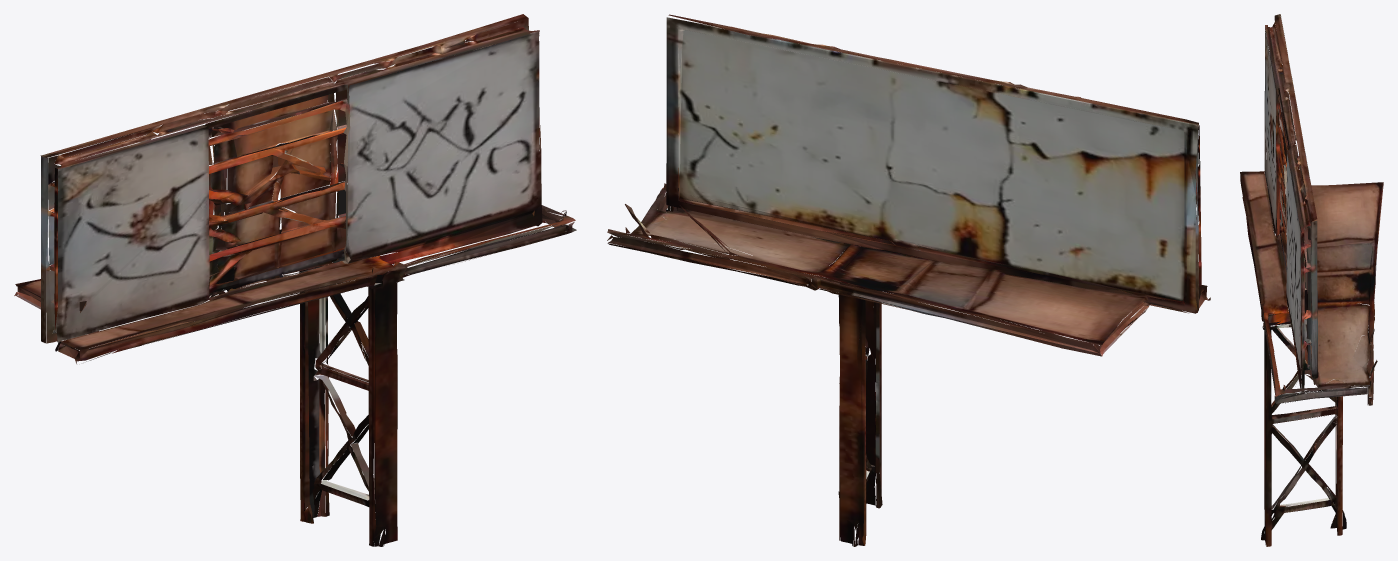
The model's file is roadside-billboard.glb.
The picture shows the model from 3 angles, left to right: view 1: azimuth 30°, elevation 25°; view 2: azimuth 150°, elevation 25°; view 3: azimuth 270°, elevation 25°; orthographic projection. The views are drawn at different scales.
Visible parts, largest first — view 1: tmpc0vrk9ih.ply; view 2: tmpc0vrk9ih.ply; view 3: tmpc0vrk9ih.ply.
Part boxes in pixels (x1,y1,x2,y2): tmpc0vrk9ih.ply: (14,14,576,546); tmpc0vrk9ih.ply: (607,14,1210,546); tmpc0vrk9ih.ply: (1240,14,1383,546).
Bounding box in the file's own units: 6 × 5 × 1.67.
Materials: 1 (1 with a texture image).
